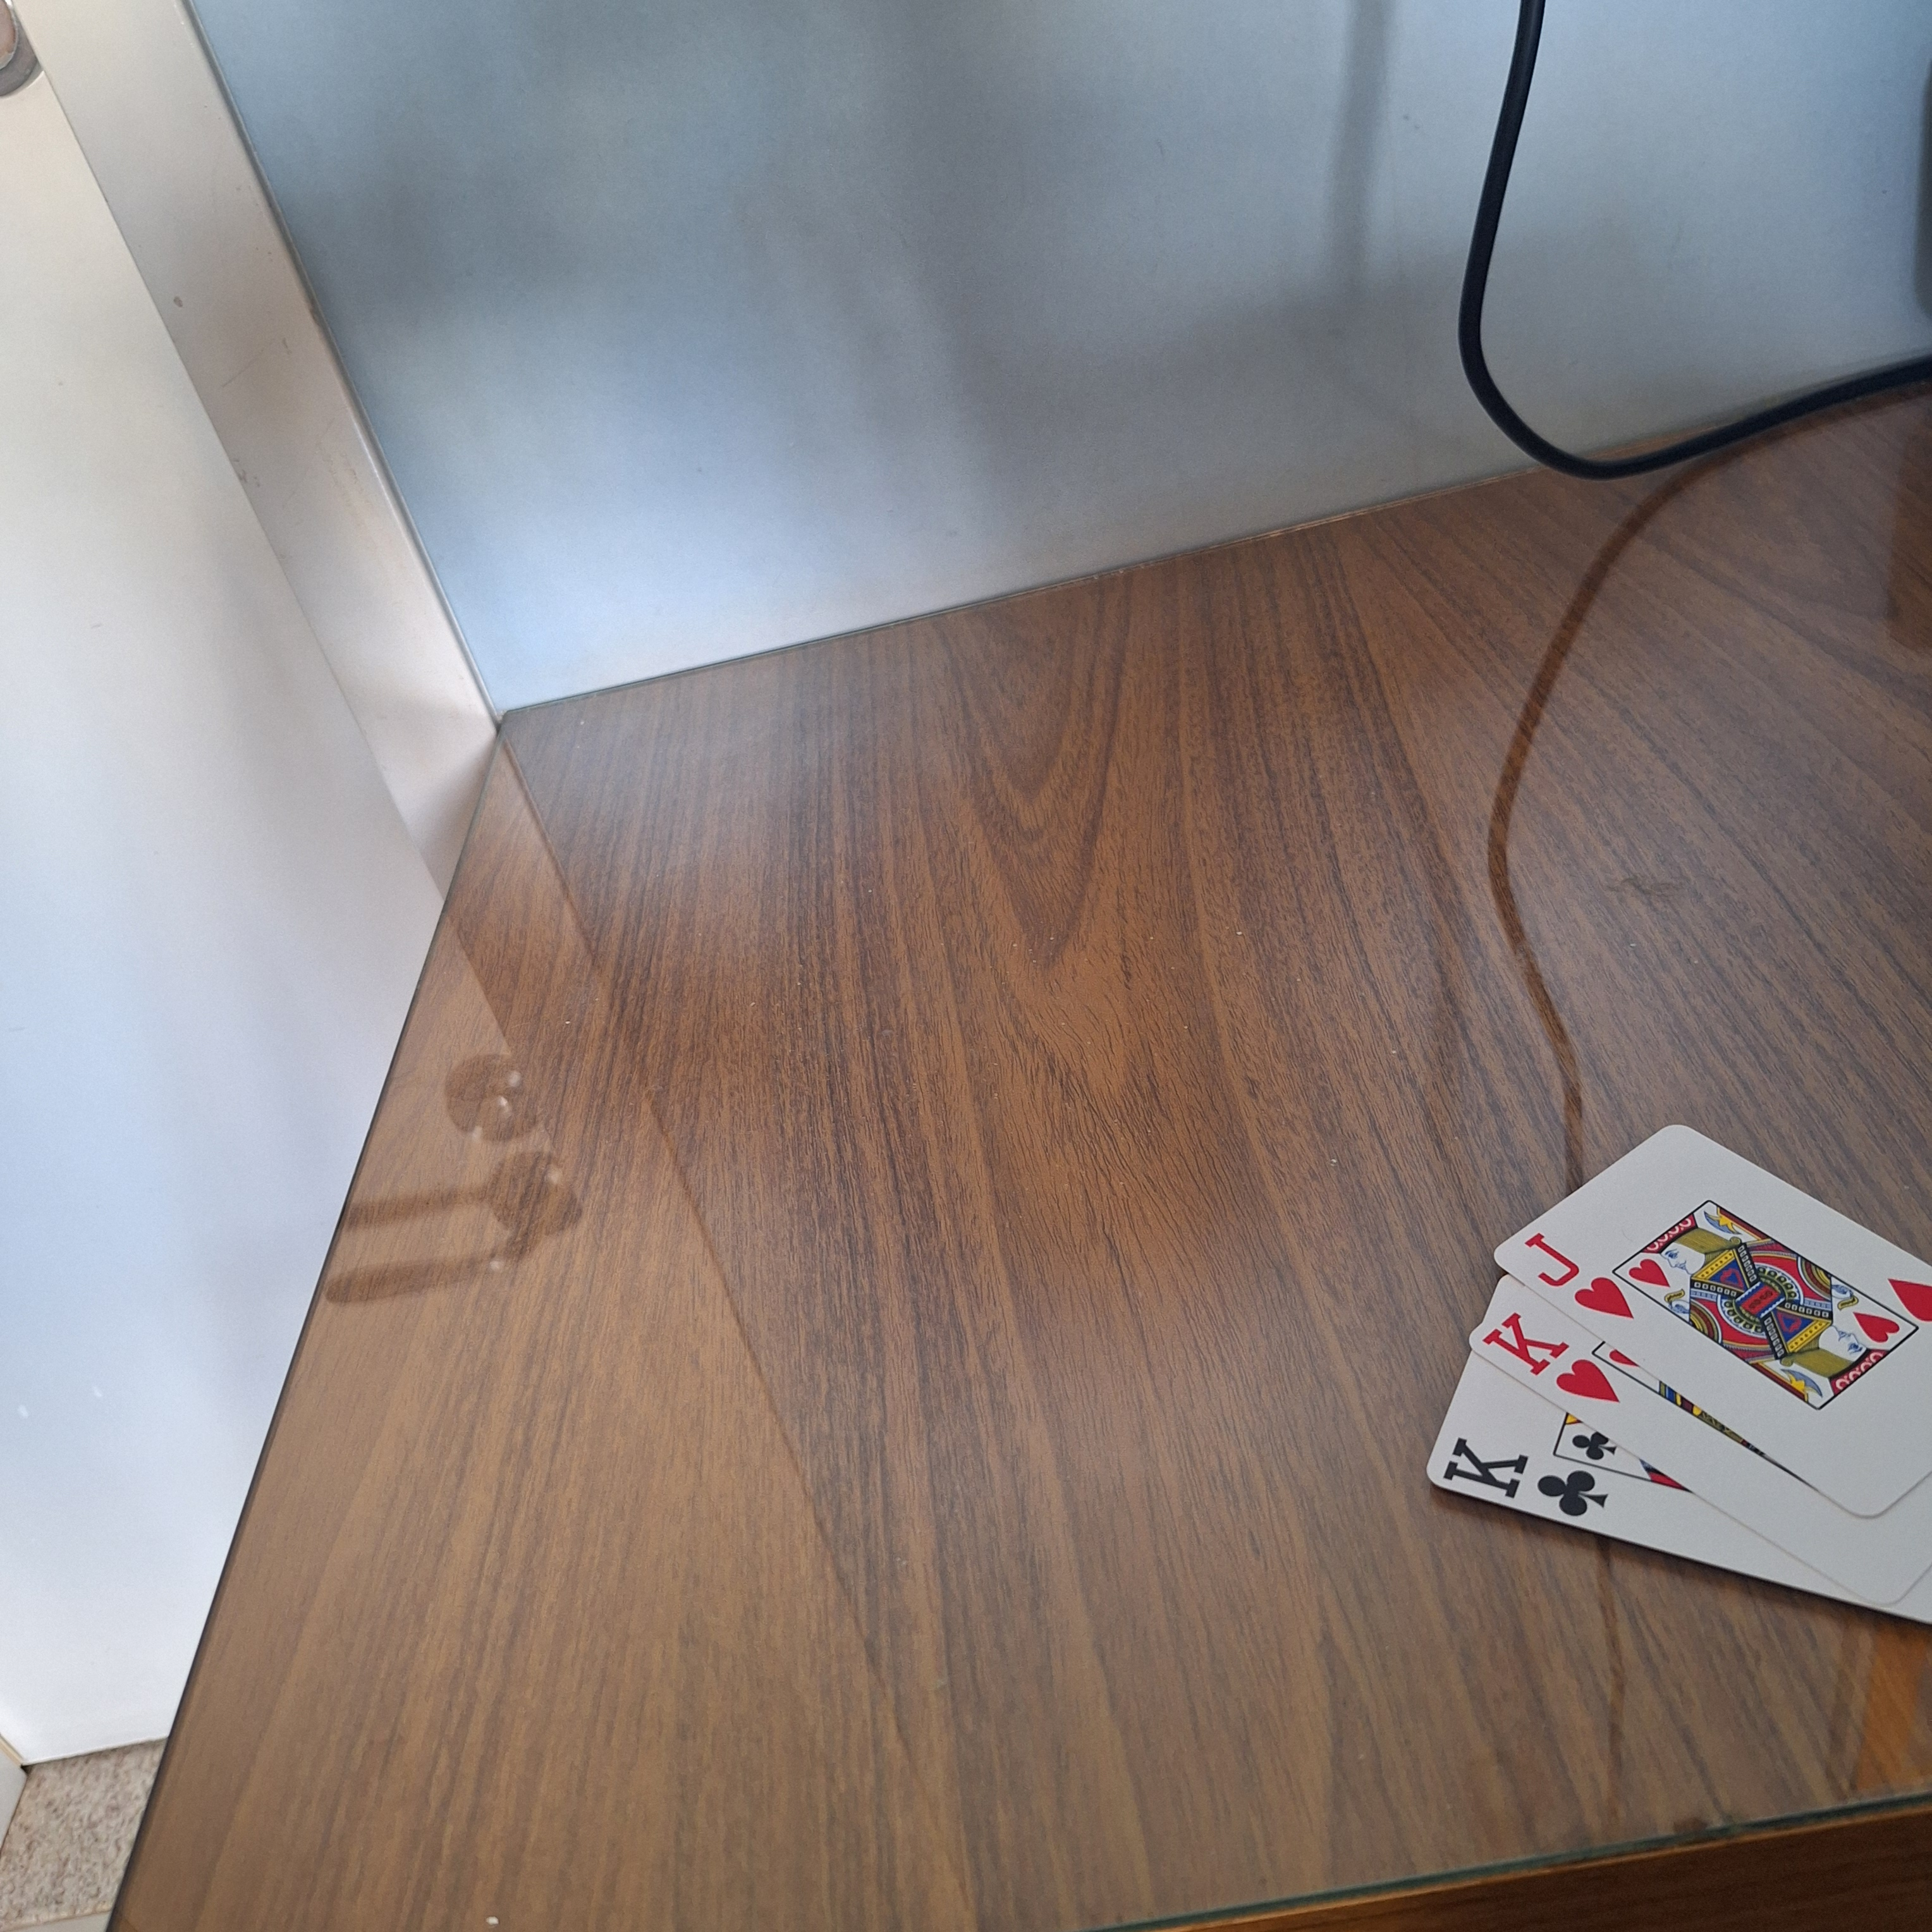JC: (1507, 1221, 1642, 1323)
KC: (1474, 1311, 1622, 1414)
KP: (1431, 1421, 1608, 1534)
